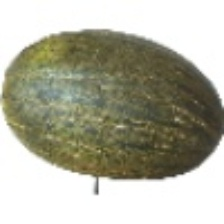honeydew: (30, 33, 201, 224)
